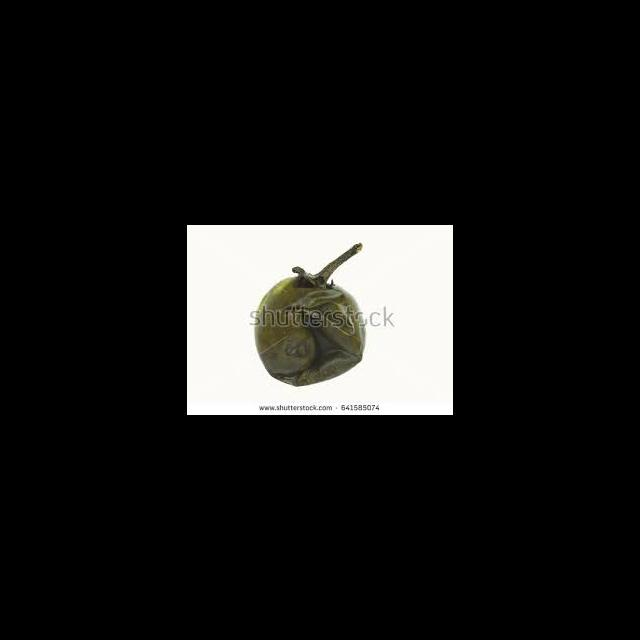food_waste: (246, 244, 385, 389)
